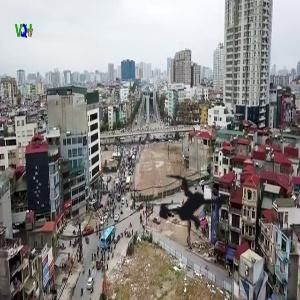drone: (129, 138, 258, 267)
